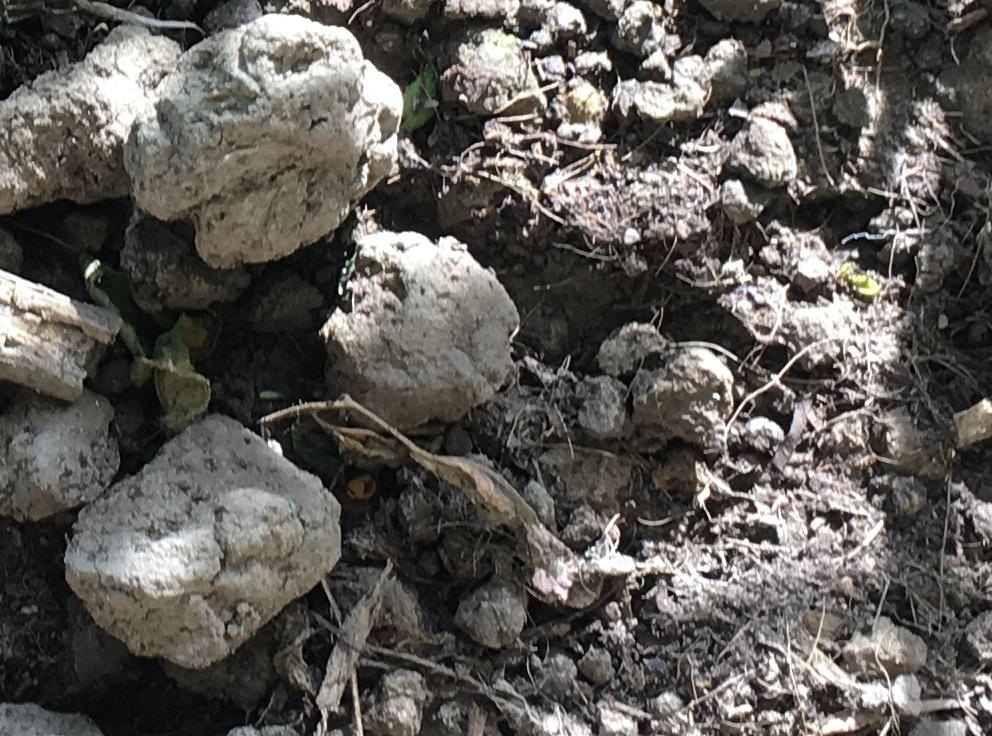block: (60, 413, 340, 666), (123, 13, 400, 267), (320, 232, 522, 435), (1, 22, 177, 213)
